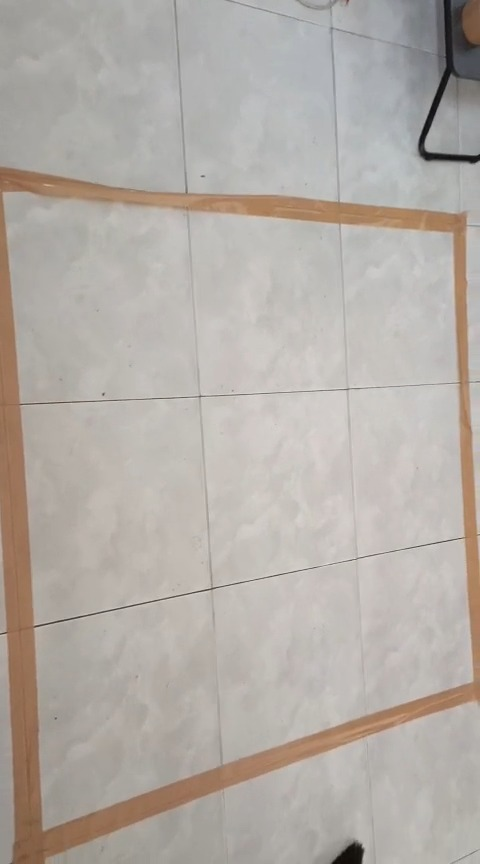floor marking: (0, 168, 479, 863)
